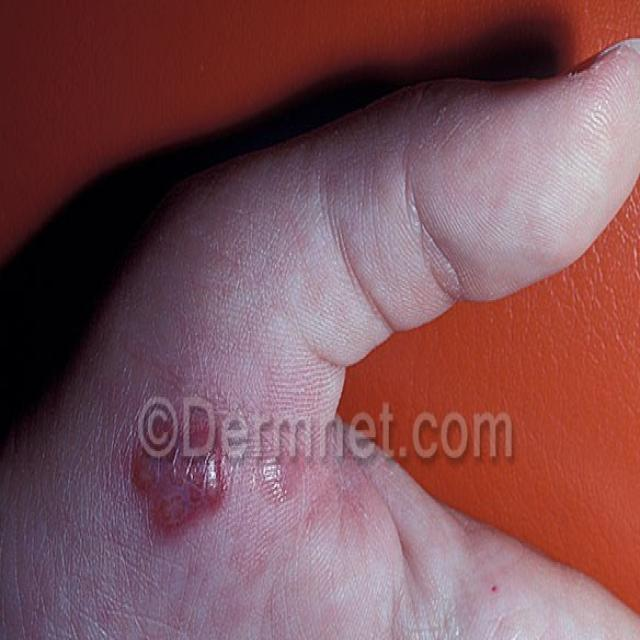Viral Infections: (129, 419, 236, 546)
